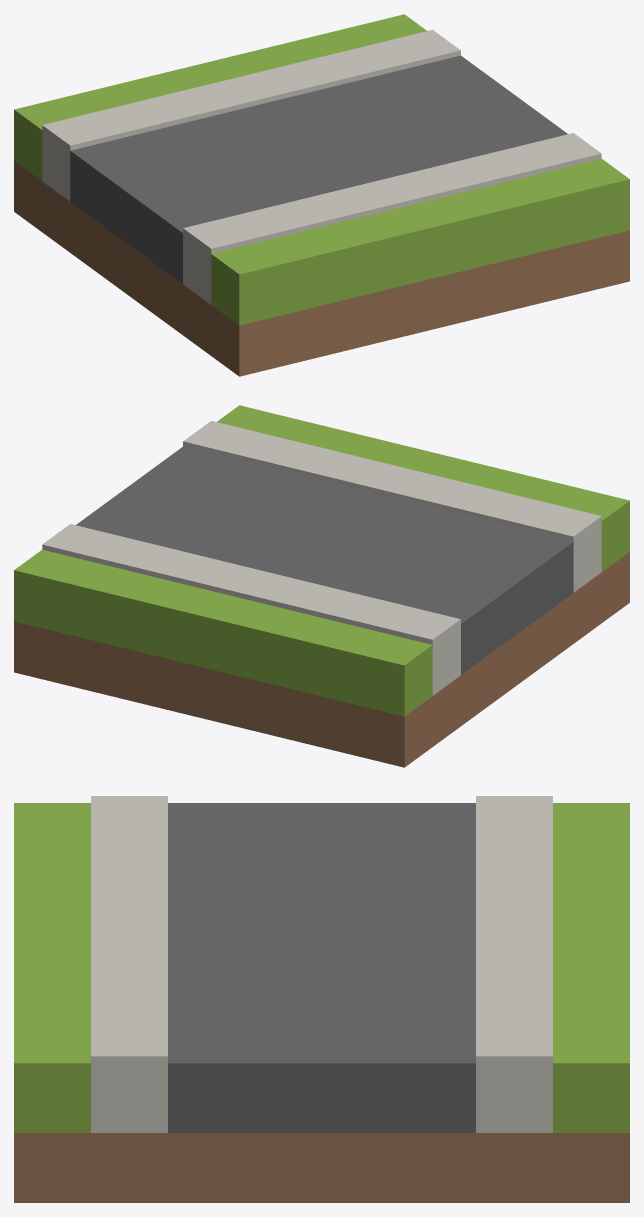
The model's file is road-straight-low.obj.
3 renders of one model, top to bottom at view 1: azimuth 30°, elevation 25°; view 2: azimuth 150°, elevation 25°; view 3: azimuth 270°, elevation 25°, orthographic. The views are drawn at different scales.
Parts seen in each view (by area): view 1: road-straight-low_Cube.131; view 2: road-straight-low_Cube.131; view 3: road-straight-low_Cube.131.
Part boxes in pixels (box(x1,y1,x2,y2)): road-straight-low_Cube.131: box(14, 14, 629, 376); road-straight-low_Cube.131: box(14, 405, 629, 767); road-straight-low_Cube.131: box(14, 796, 629, 1202).
Bounding box in the file's own units: 8 × 2.1 × 8.
1 material, 1 textured.
